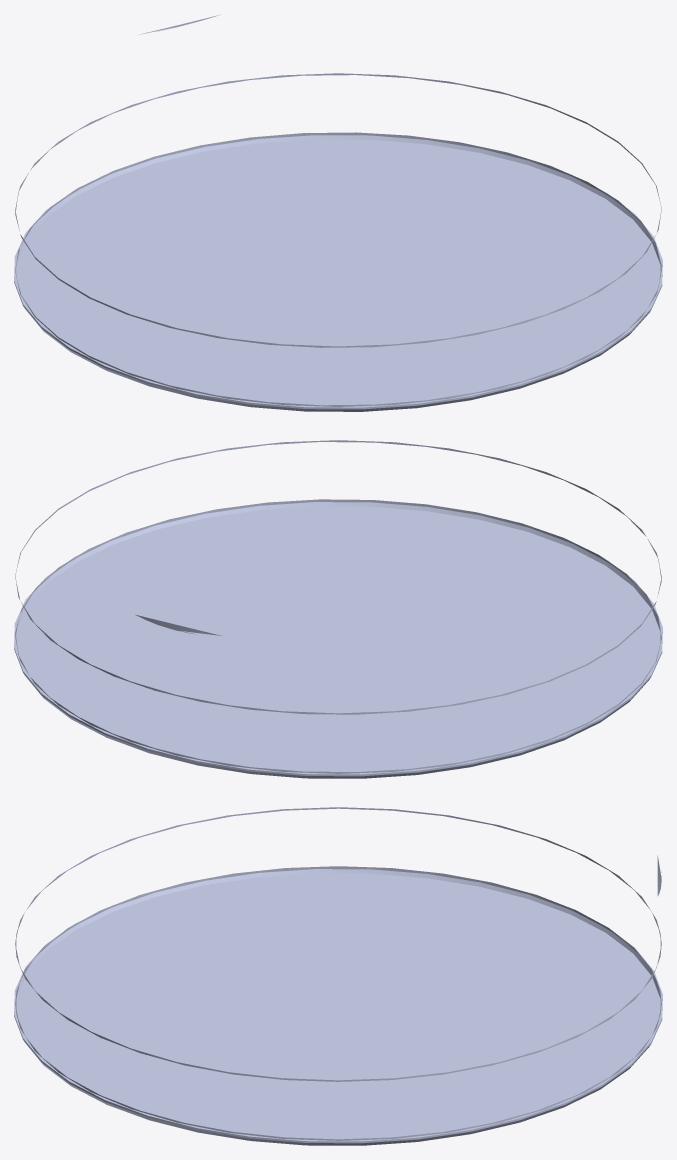
File: ur3e_scaled_32.obj
3 renders of one model, top to bottom at view 1: azimuth 30°, elevation 25°; view 2: azimuth 150°, elevation 25°; view 3: azimuth 270°, elevation 25°, orthographic.
Bounding box in the file's own units: 0.0898 × 0.0205 × 0.0898.
